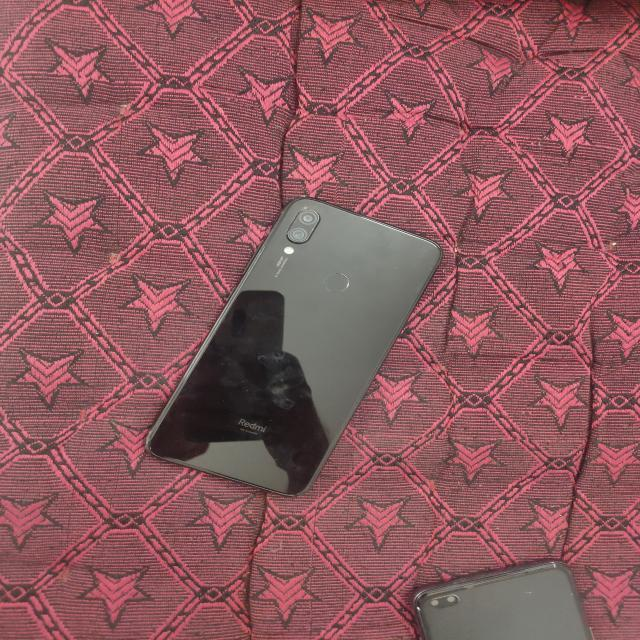Phone: (139, 198, 445, 500), (388, 555, 604, 640)
